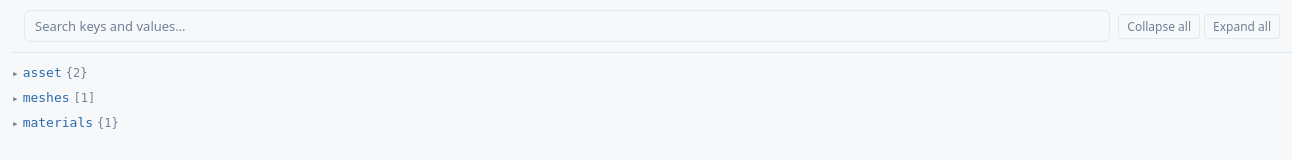
Test: JsonTree – search interaction › search shows result count
The width and height of the screenshot is (1292, 160).
Type "version" into the search field at (567,26), box [24,10,1110,42]
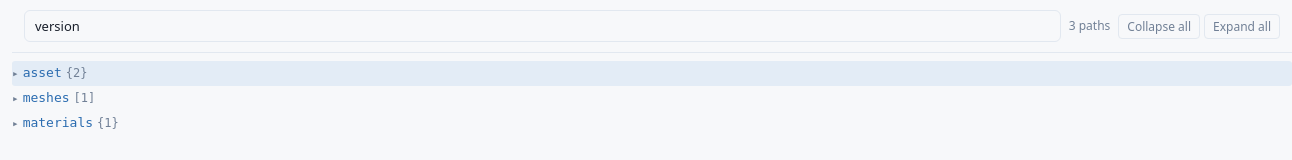
Check: the text "paths?" is shown, box [1069,17,1110,34]
